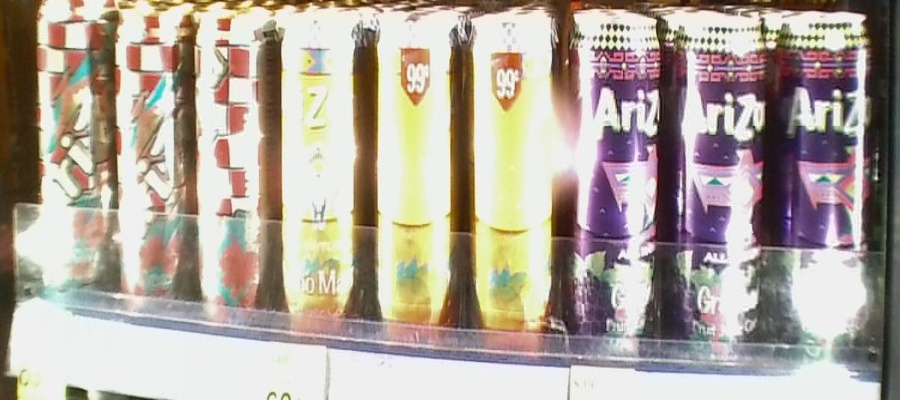bottle: (666, 11, 767, 367), (773, 9, 873, 368), (562, 9, 661, 360), (463, 1, 557, 349), (370, 6, 459, 343), (276, 11, 366, 333), (195, 8, 274, 326), (34, 3, 114, 313), (115, 4, 195, 312)
